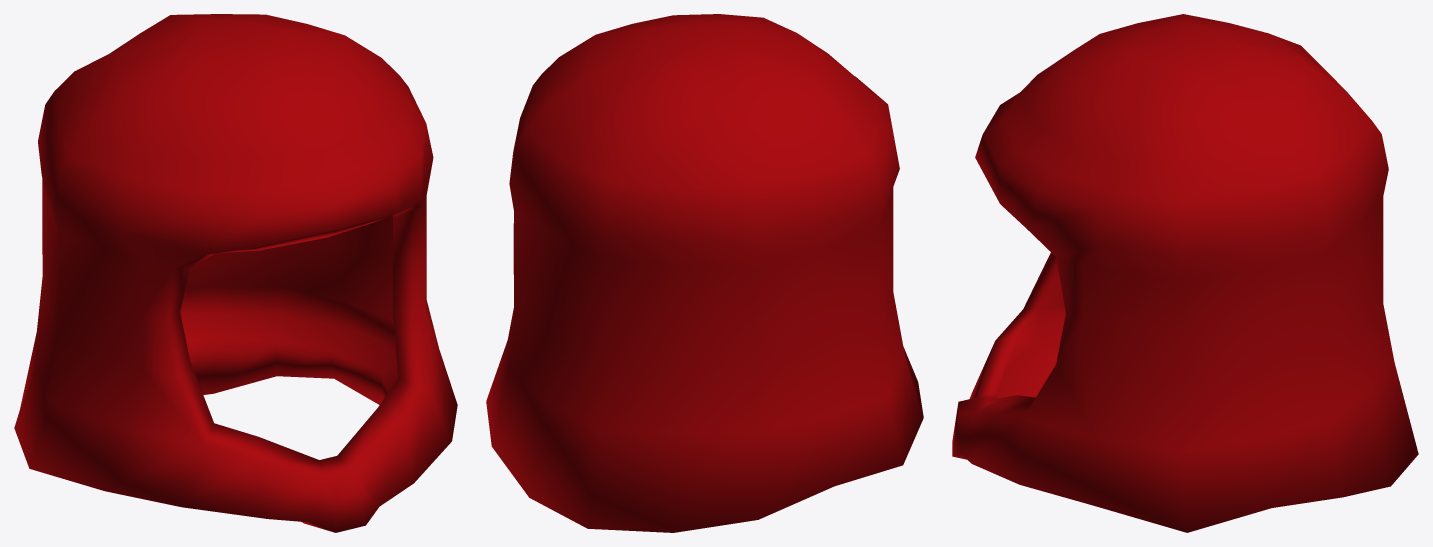
The model's file is Lego_Hood.fbx.
The picture shows the model from 3 angles, left to right: view 1: azimuth 30°, elevation 25°; view 2: azimuth 150°, elevation 25°; view 3: azimuth 270°, elevation 25°; orthographic projection.
Parts seen in each view (by area): view 1: Hood; view 2: Hood; view 3: Hood.
Part boxes in pixels (left/top/right/bottom): Hood: left=14, top=14, right=457, bottom=532; Hood: left=486, top=14, right=923, bottom=532; Hood: left=952, top=14, right=1418, bottom=532.
Bounding box in the file's own units: 0.7994 × 0.7941 × 0.7941.
